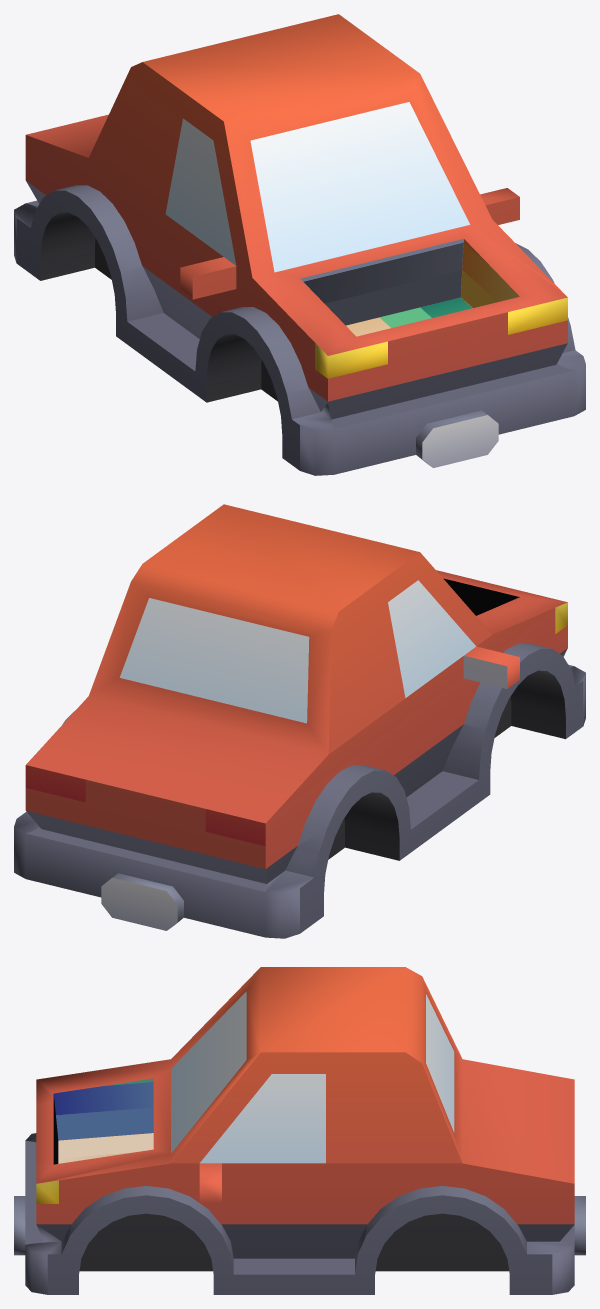
File: auto_leeg.glb
3 views of the same model, one above another, from view 1: azimuth 30°, elevation 25°; view 2: azimuth 150°, elevation 25°; view 3: azimuth 270°, elevation 25° (orthographic). The views are drawn at different scales.
Visible parts, largest first — view 1: body.001; view 2: body.001; view 3: body.001.
Part boxes in pixels (left/top/right/bottom): body.001: left=14, top=14, right=585, bottom=475; body.001: left=14, top=504, right=585, bottom=938; body.001: left=14, top=967, right=585, bottom=1294.
Bounding box in the file's own units: 1.5 × 1.15 × 2.55.
1 material, 1 textured.
